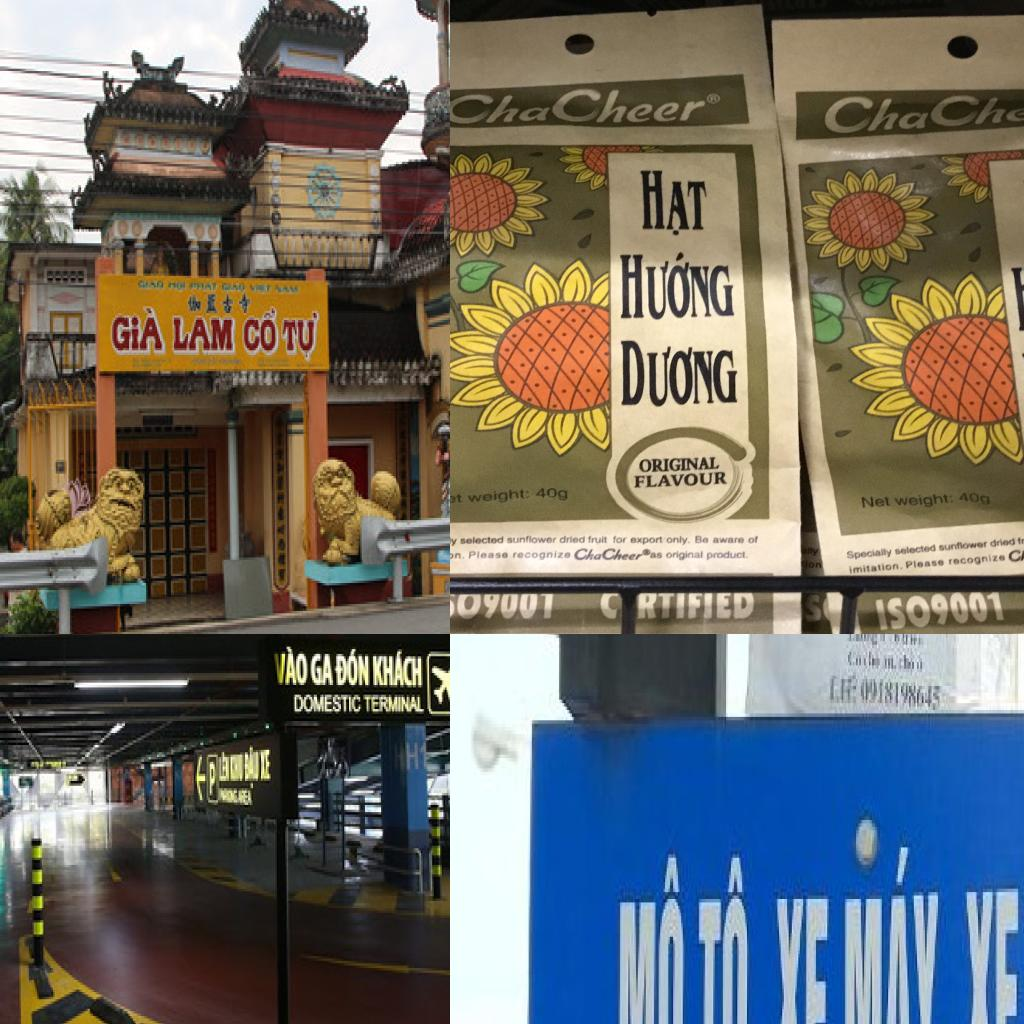text: (841, 830, 960, 1024), (613, 851, 692, 1024), (694, 847, 768, 1024), (450, 83, 707, 124), (820, 91, 1024, 136), (614, 250, 739, 321), (617, 337, 742, 408), (962, 881, 1024, 1024), (771, 892, 832, 1024), (635, 166, 712, 238), (110, 304, 168, 357), (173, 313, 236, 355), (372, 649, 424, 692), (279, 308, 320, 362), (242, 304, 281, 357), (630, 470, 730, 489), (293, 692, 363, 716), (334, 647, 372, 690), (636, 454, 724, 472), (274, 647, 310, 690), (464, 486, 532, 505), (572, 547, 644, 563), (309, 651, 336, 690), (947, 552, 1008, 569), (893, 492, 957, 508), (846, 560, 906, 576), (405, 740, 429, 774), (533, 485, 572, 504), (938, 539, 990, 553), (958, 488, 996, 507), (859, 491, 894, 511), (845, 546, 893, 560), (258, 747, 274, 786), (894, 542, 938, 556), (511, 551, 572, 561), (459, 533, 506, 545), (704, 550, 750, 561), (904, 558, 946, 570), (665, 550, 705, 562), (506, 536, 558, 545), (467, 549, 509, 560), (208, 760, 218, 800), (1004, 545, 1024, 564), (629, 535, 664, 545), (711, 535, 746, 545), (989, 537, 1017, 548), (665, 535, 692, 546), (559, 534, 586, 544), (450, 490, 465, 506), (587, 535, 609, 544), (450, 550, 466, 561), (611, 535, 628, 545), (693, 534, 710, 544), (706, 93, 720, 103), (747, 535, 760, 545), (893, 634, 902, 648), (649, 552, 663, 560), (1016, 535, 1024, 546), (880, 634, 886, 648), (642, 548, 651, 556)
